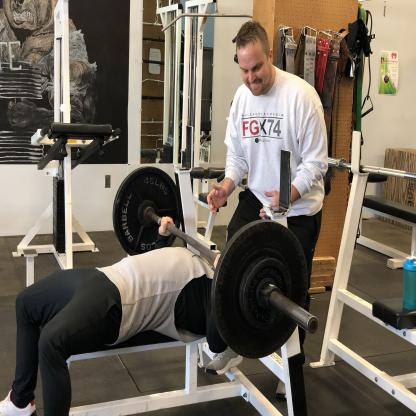Barbell: (207, 213, 327, 367)
